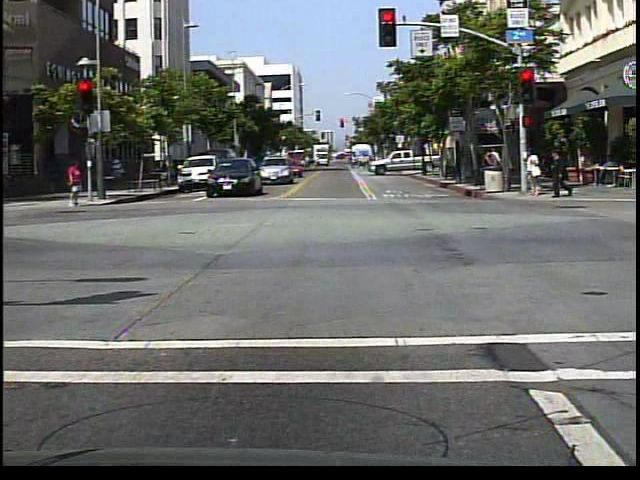person: (547, 147, 573, 201), (524, 144, 545, 199), (66, 159, 87, 212)
